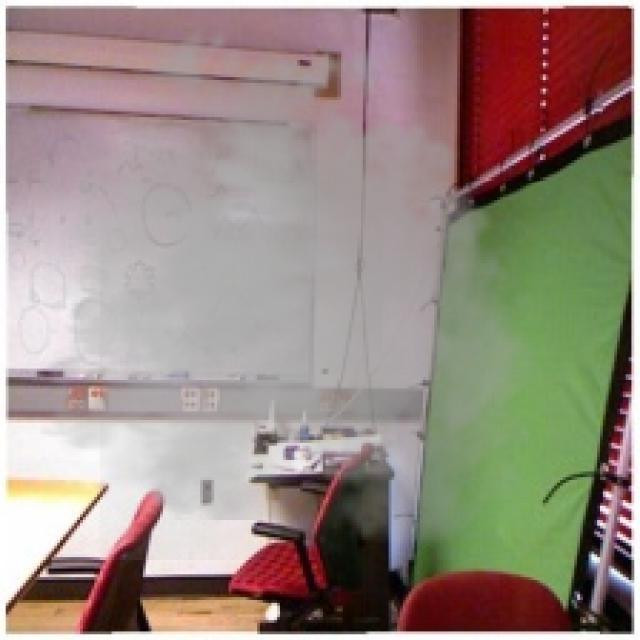Smoke: (2, 11, 554, 560)
